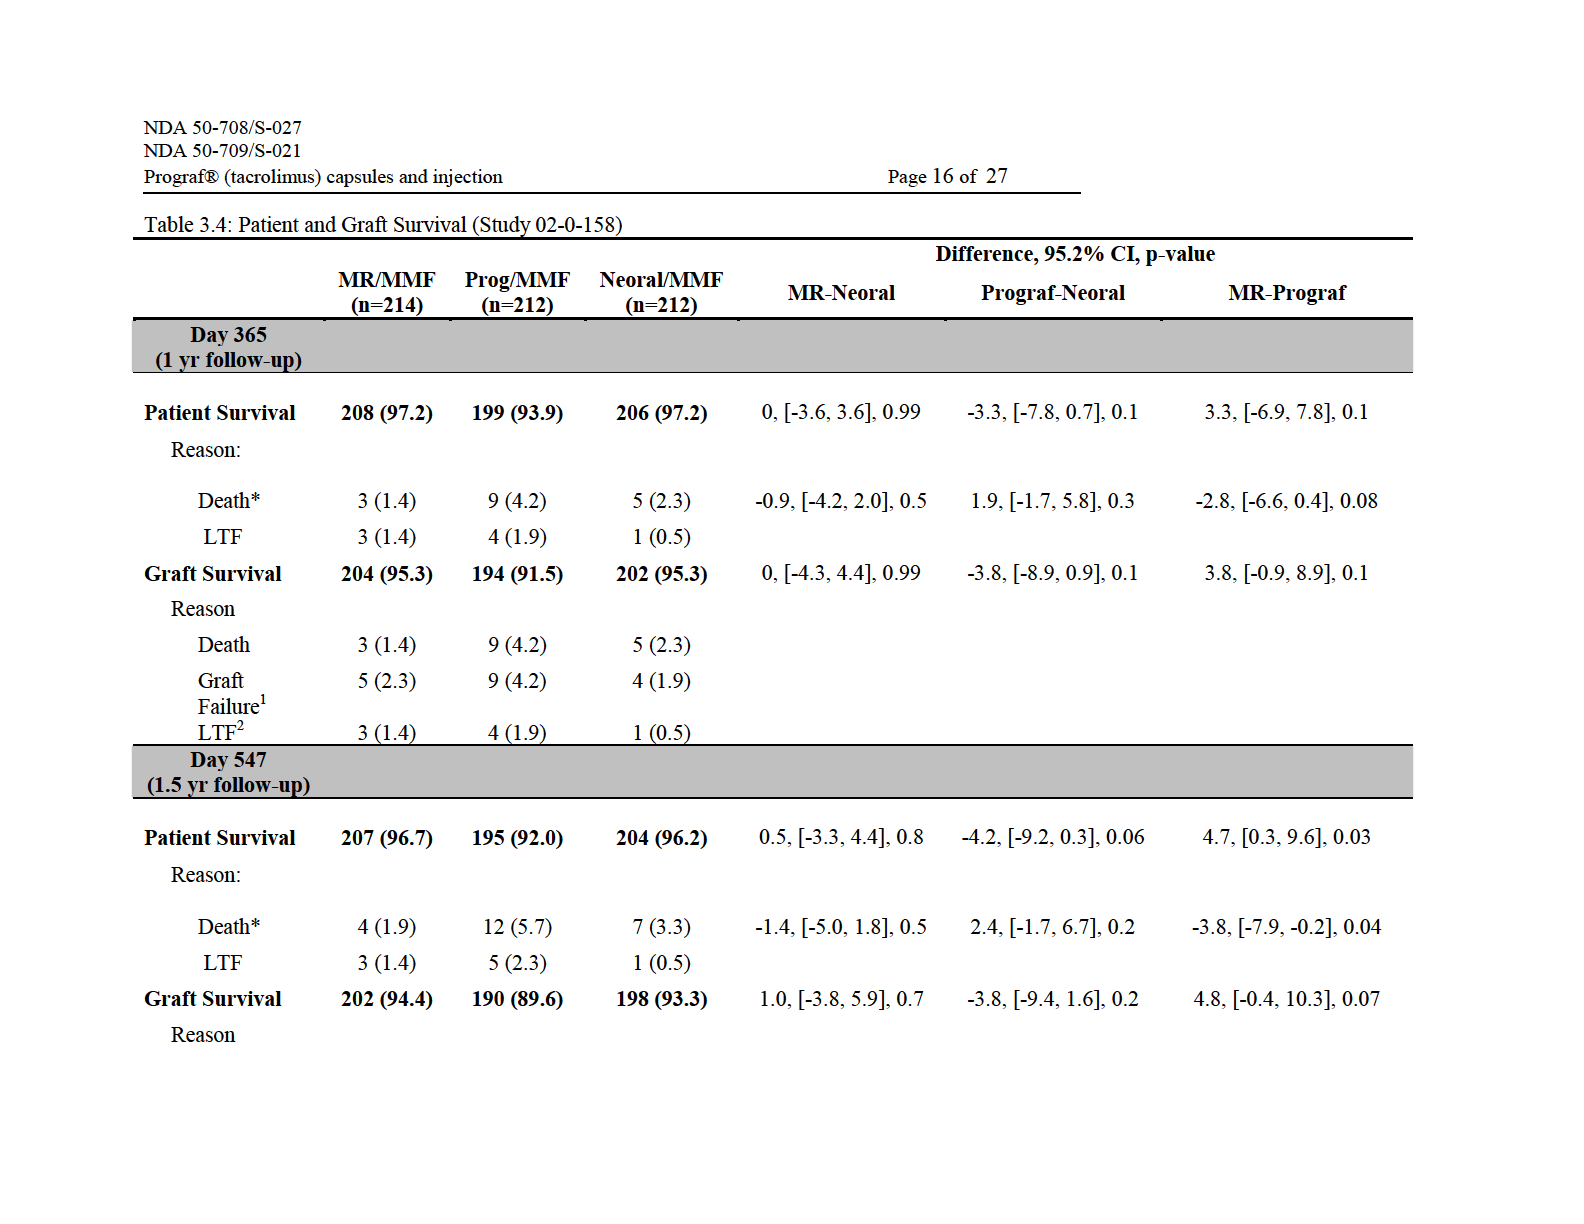partial_lined_merged_cells: (129, 235, 1417, 1047)
